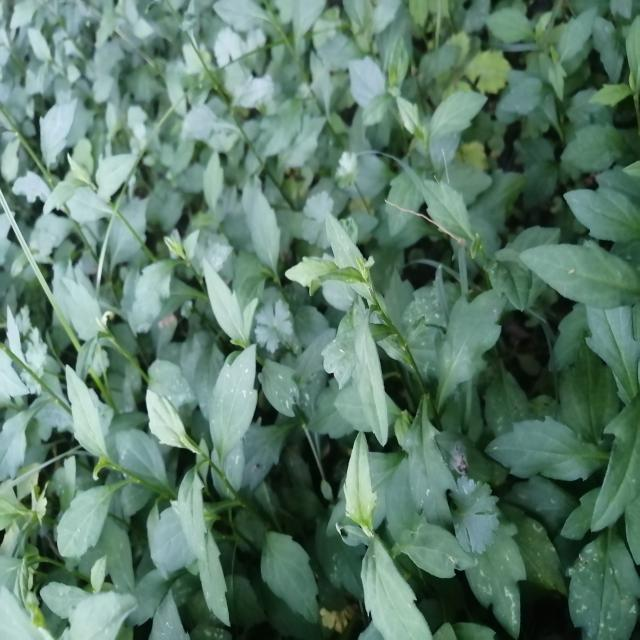Indian aster: (73, 380, 304, 608), (284, 176, 489, 423), (314, 437, 462, 640)
